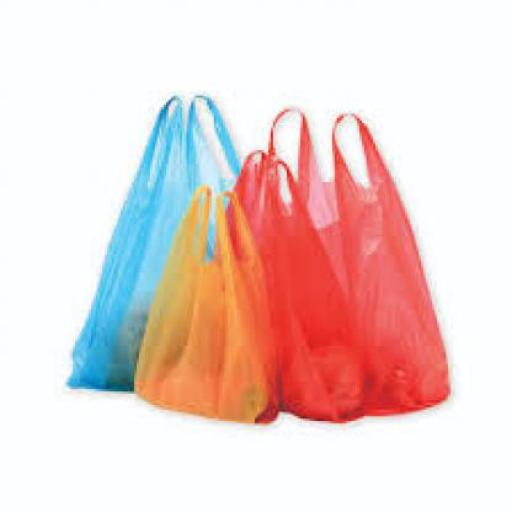plastic: (268, 107, 450, 414), (64, 91, 241, 391), (218, 150, 368, 421), (132, 185, 266, 421)
